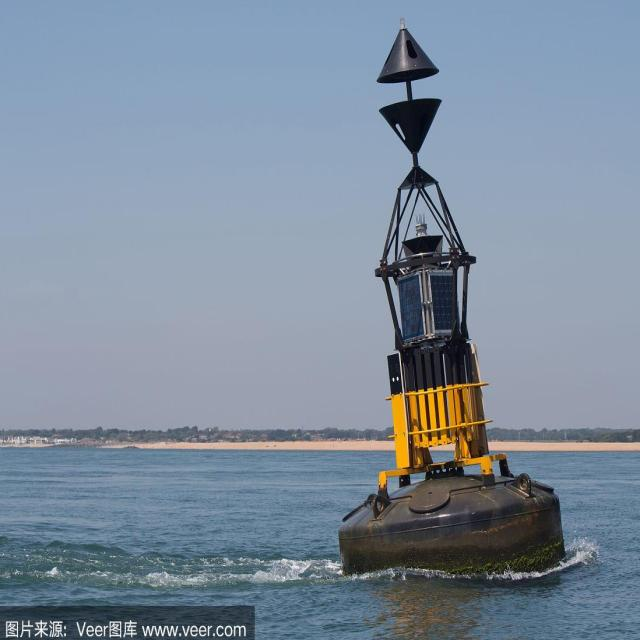buoy: (333, 12, 560, 580)
